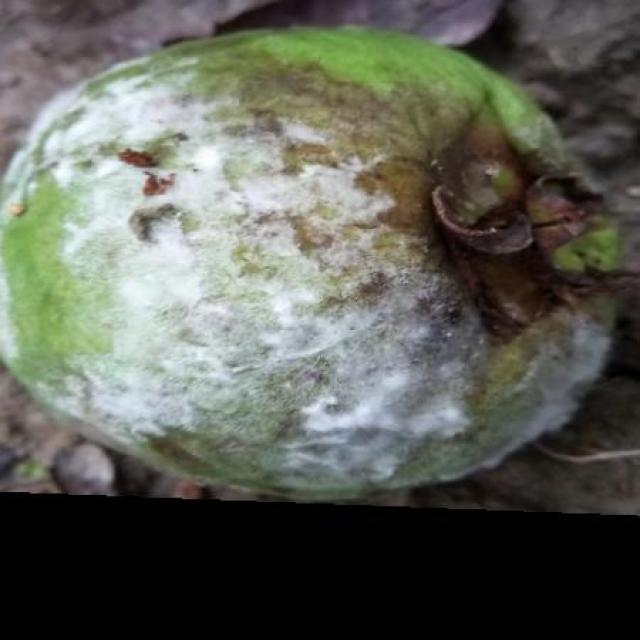Phytopthora: (0, 30, 611, 498)
